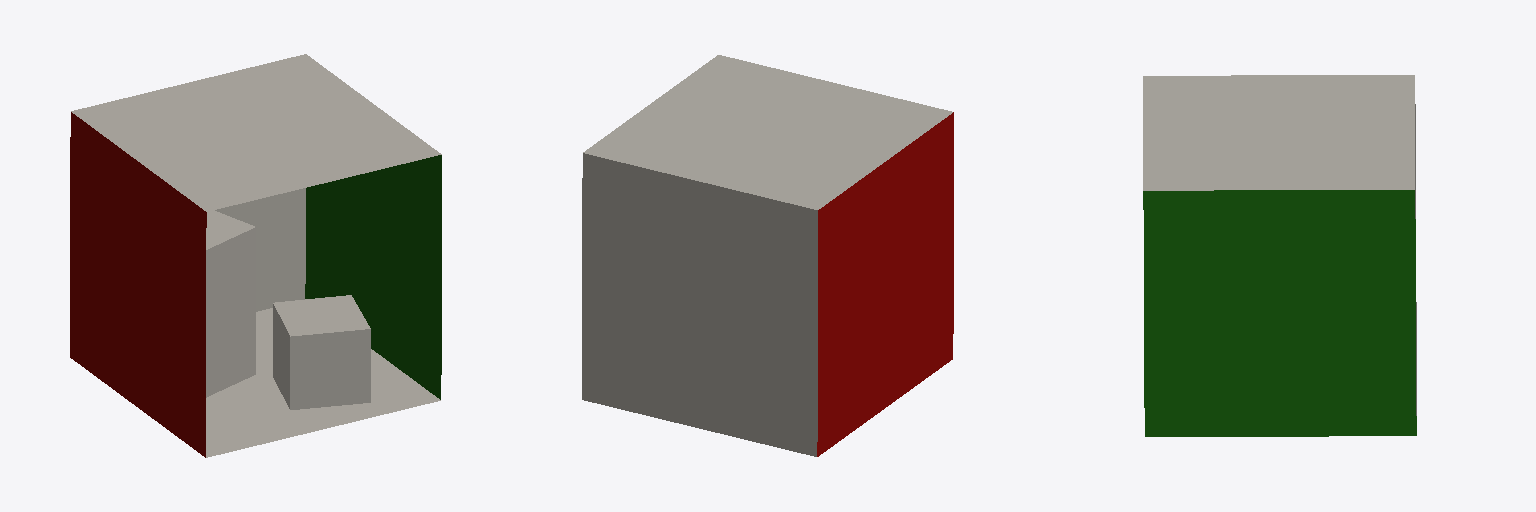
File: CornellBox.obj
3 renders of one model, left to right at view 1: azimuth 30°, elevation 25°; view 2: azimuth 150°, elevation 25°; view 3: azimuth 270°, elevation 25°, orthographic.
Parts seen in each view (by area): view 1: leftWall, ceiling, rightWall, floor, shortBox, tallBox, backWall; view 2: backWall, leftWall, ceiling; view 3: rightWall, ceiling.
Part boxes in pixels (x1,y1,x2,y2): leftWall: (70,112,206,457); ceiling: (71,54,441,211); rightWall: (305,155,441,399); floor: (206,308,440,457); shortBox: (273,295,370,409); tallBox: (206,210,255,397); backWall: (215,188,305,311); backWall: (582,153,817,456); leftWall: (817,112,953,456); ceiling: (583,55,952,209); rightWall: (1143,190,1416,436); ceiling: (1143,75,1414,190).
Size of the model in its own units: 2 by 2.01 by 2.01.